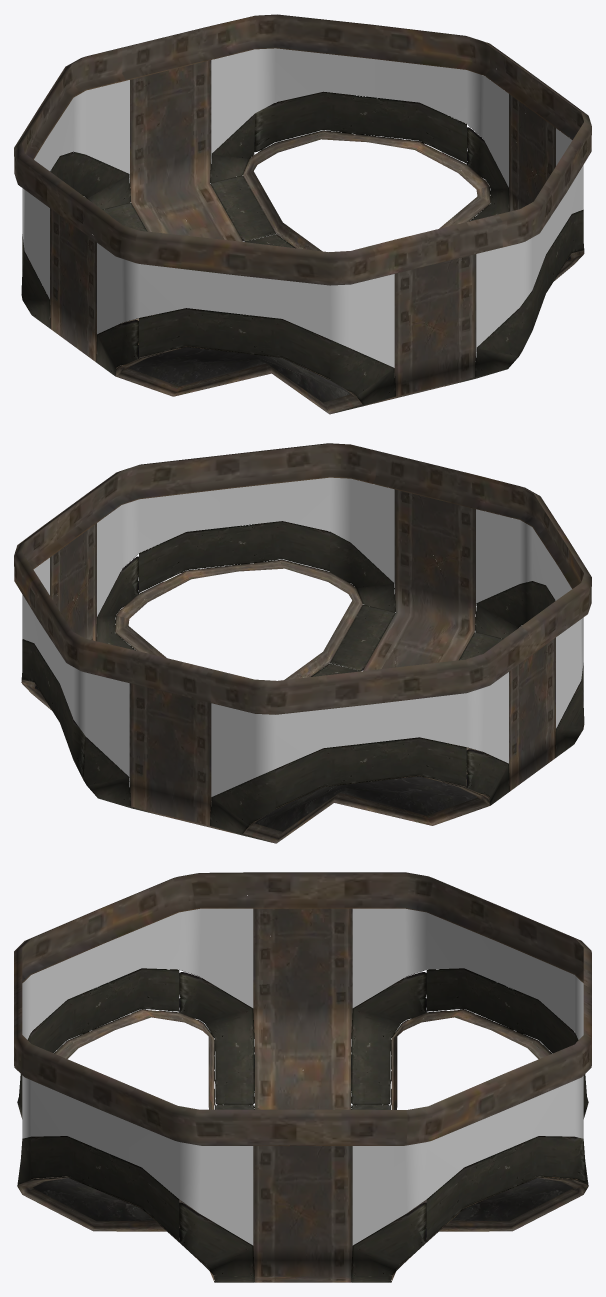
The picture shows the model from 3 angles, top to bottom: view 1: azimuth 30°, elevation 25°; view 2: azimuth 150°, elevation 25°; view 3: azimuth 270°, elevation 25°; orthographic projection. The views are drawn at different scales.
Visible parts, largest first — view 1: SM_Dowdun_Corner_Turret_05_LOD0; view 2: SM_Dowdun_Corner_Turret_05_LOD0; view 3: SM_Dowdun_Corner_Turret_05_LOD0.
Boxes of the visible parts, left/top/right/bottom form: SM_Dowdun_Corner_Turret_05_LOD0: left=14, top=14, right=591, bottom=414; SM_Dowdun_Corner_Turret_05_LOD0: left=14, top=443, right=591, bottom=843; SM_Dowdun_Corner_Turret_05_LOD0: left=14, top=872, right=591, bottom=1282.
Bounding box in the file's own units: 6.09 × 2.36 × 6.09.
3 materials, 2 textured.
